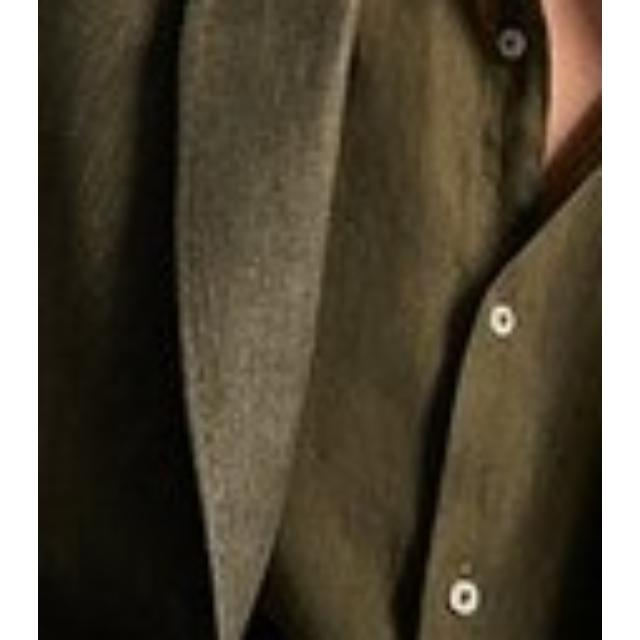linen: (38, 0, 602, 640)
